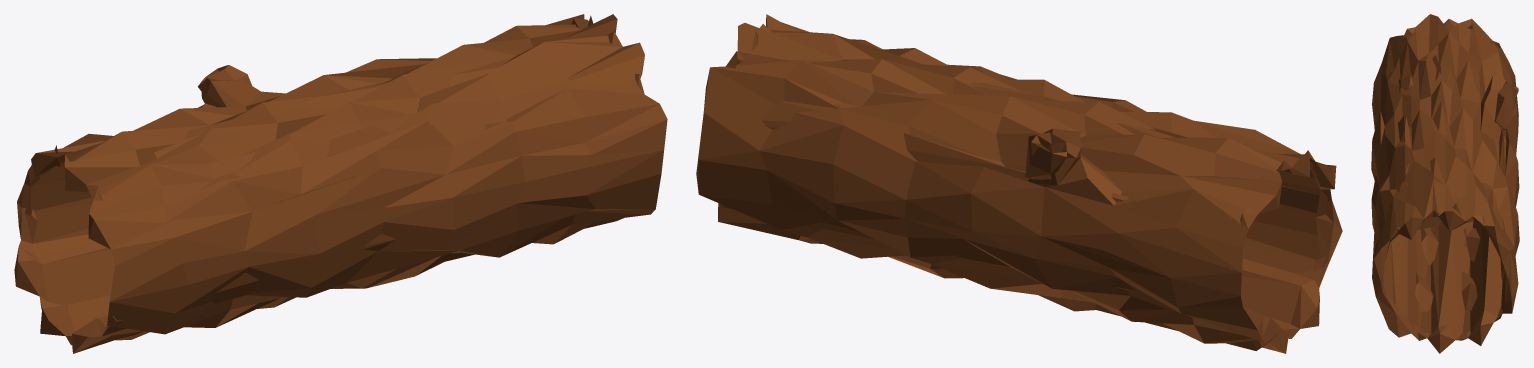
Rendered from TreeLogHollow.fbx.
3 views of the same model, side by side, from view 1: azimuth 30°, elevation 25°; view 2: azimuth 150°, elevation 25°; view 3: azimuth 270°, elevation 25° (orthographic). The views are drawn at different scales.
Visible parts, largest first — view 1: Tree trunk; view 2: Tree trunk; view 3: Tree trunk.
Part boxes in pixels (box(x1,y1,x2,y2)): Tree trunk: box(14, 14, 667, 353); Tree trunk: box(696, 14, 1342, 353); Tree trunk: box(1371, 14, 1519, 353).
Size of the model in its own units: 494 by 170 by 154.
